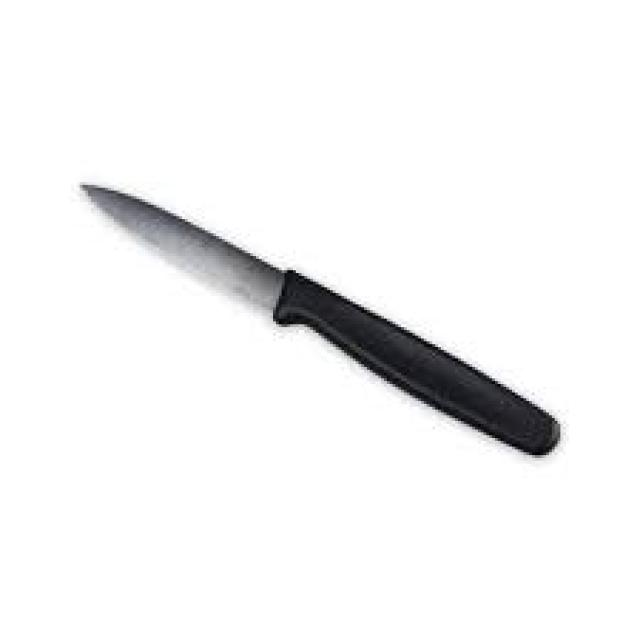Knife: (80, 182, 560, 455)
